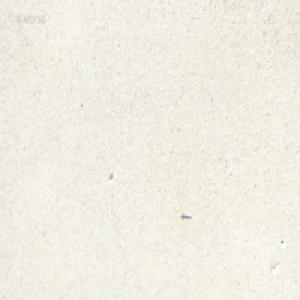Nail: (180, 213, 191, 220)
